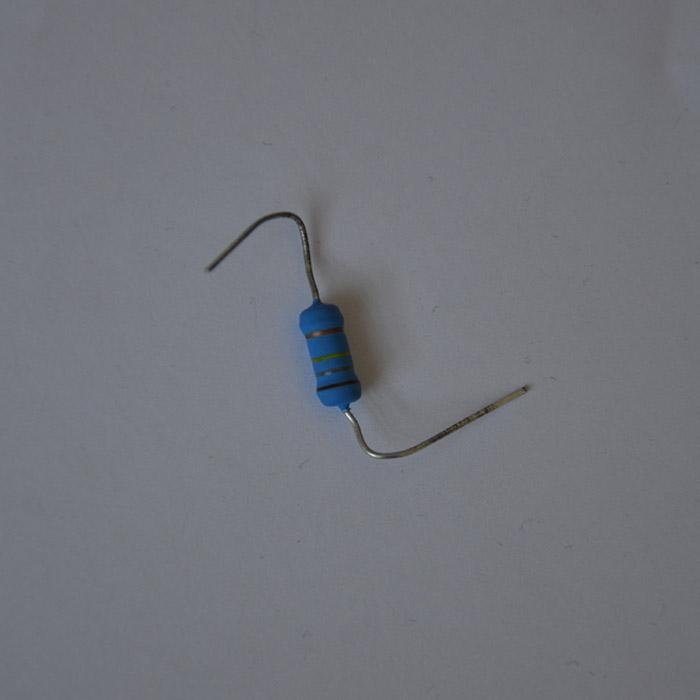resistor: (299, 298, 360, 409)
